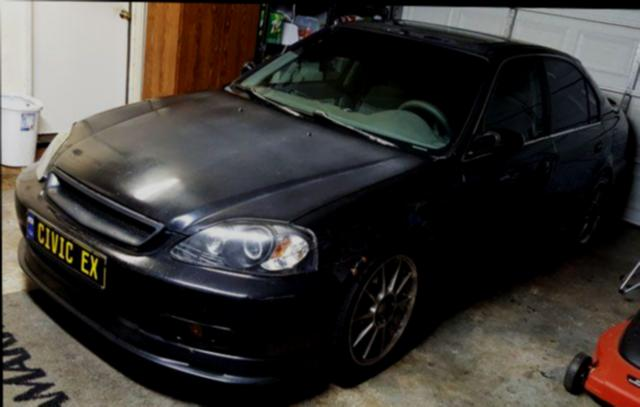License_Plate: (20, 202, 109, 296)
